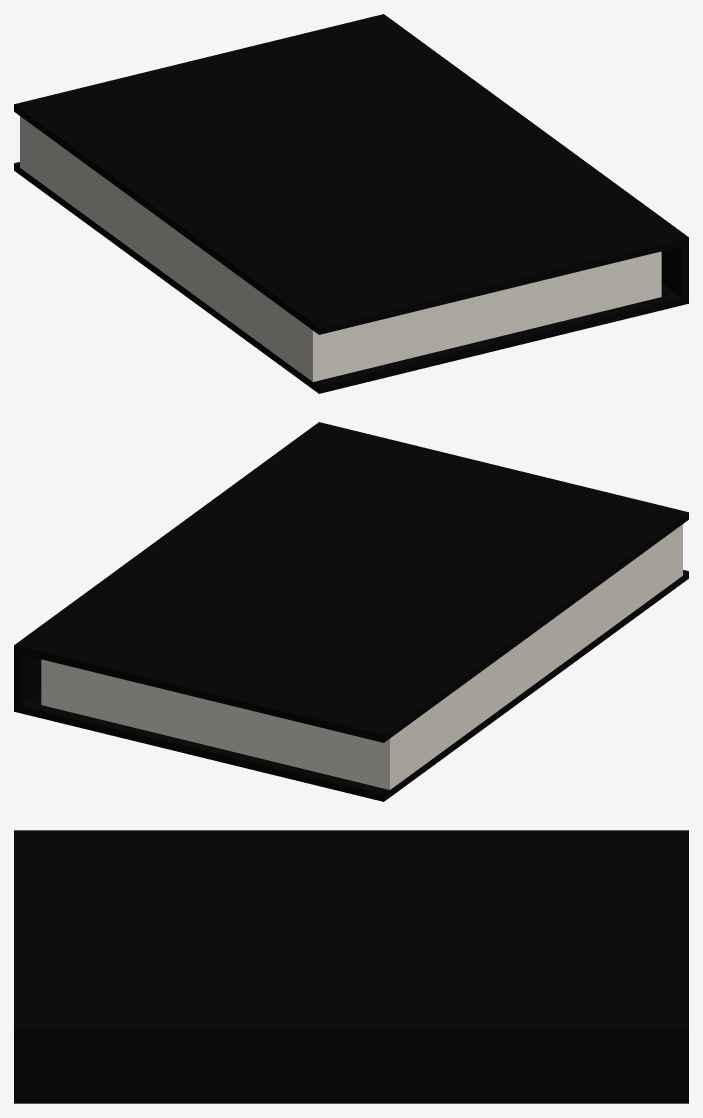
Rendered from Item_paperback.fbx.
3 views of the same model, one above another, from view 1: azimuth 30°, elevation 25°; view 2: azimuth 150°, elevation 25°; view 3: azimuth 270°, elevation 25° (orthographic). The views are drawn at different scales.
Visible parts, largest first — view 1: Cover, Pages.001; view 2: Cover, Pages.001; view 3: Cover.
Boxes of the visible parts, x1,y1,x2,y2 form: Cover: (14, 14, 688, 393); Pages.001: (20, 116, 661, 381); Cover: (14, 422, 688, 801); Pages.001: (41, 524, 682, 789); Cover: (14, 830, 688, 1103).
Size of the model in its own units: 0.1418 by 0.0243 by 0.2025.
